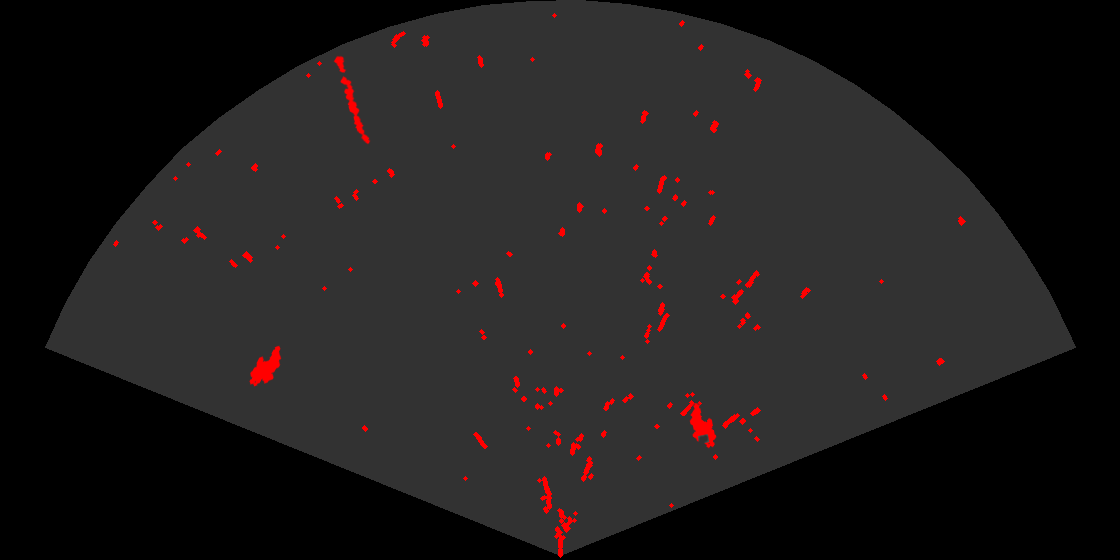AUV: (248, 344, 283, 388), (688, 402, 718, 450)
chain: (332, 53, 372, 146)
